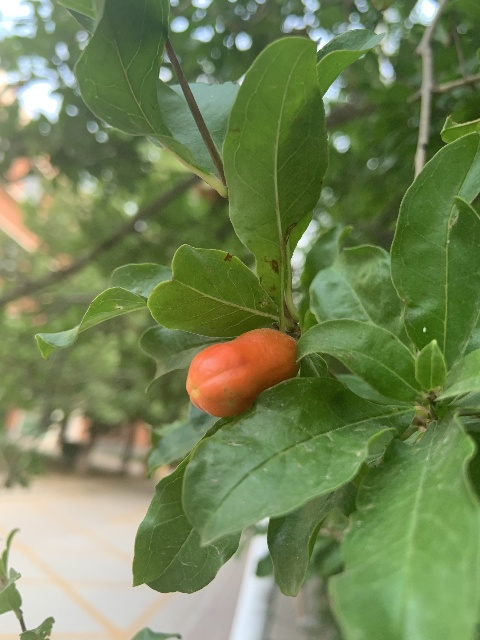bud: (186, 327, 298, 418)
